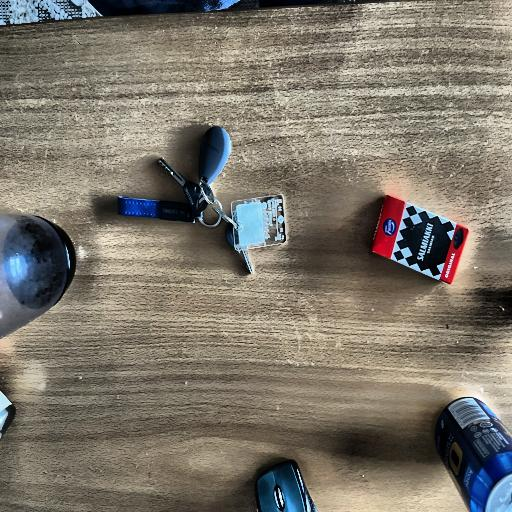koti: (431, 385, 512, 512)
